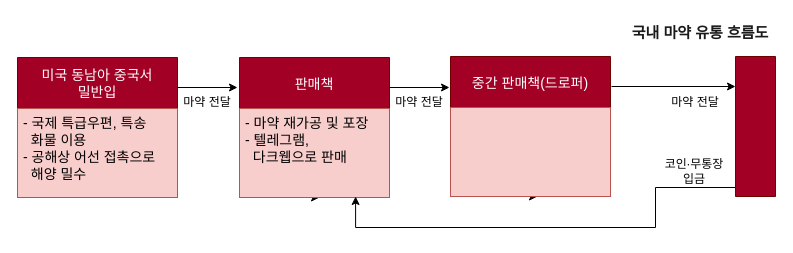
Image size: 793x253. Some labels were removed from this diagram. The centre of each missing label's shape, as x and y in pixels:
"- 판매책이 알바로 고용 - 특정 장소에 마약 숨겨 놓는 수법(던지기)" belongs at point (530, 151).
"구 매 자" belongs at point (755, 126).
